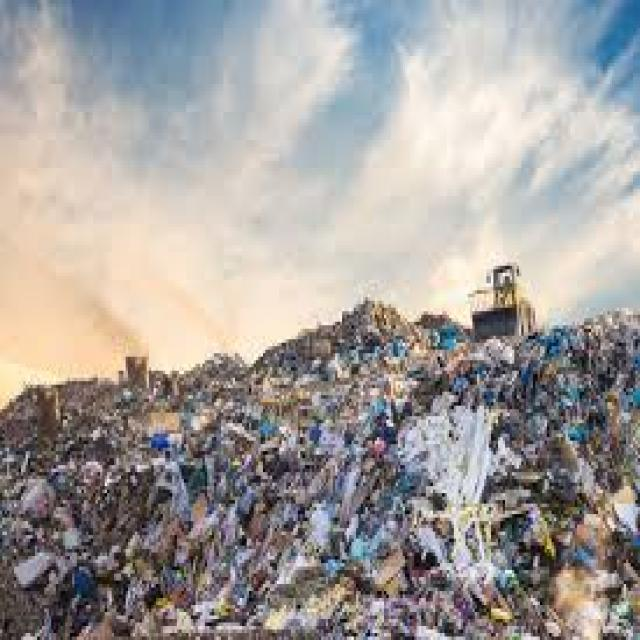heap: (73, 423, 640, 637)
